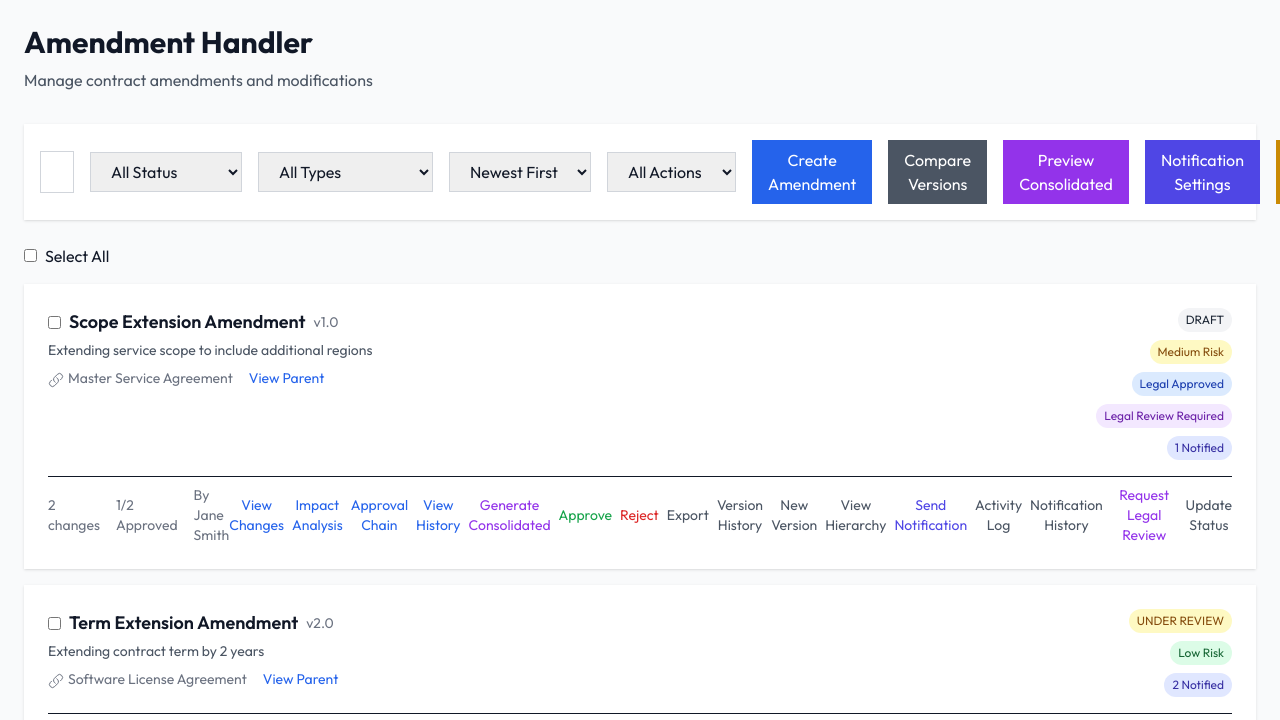
AmendmentHandler › Parent Contract Linking › should inherit parent contract metadata
Click the button "Create Amendment".
click(812, 172)  # box [752,140,872,204]
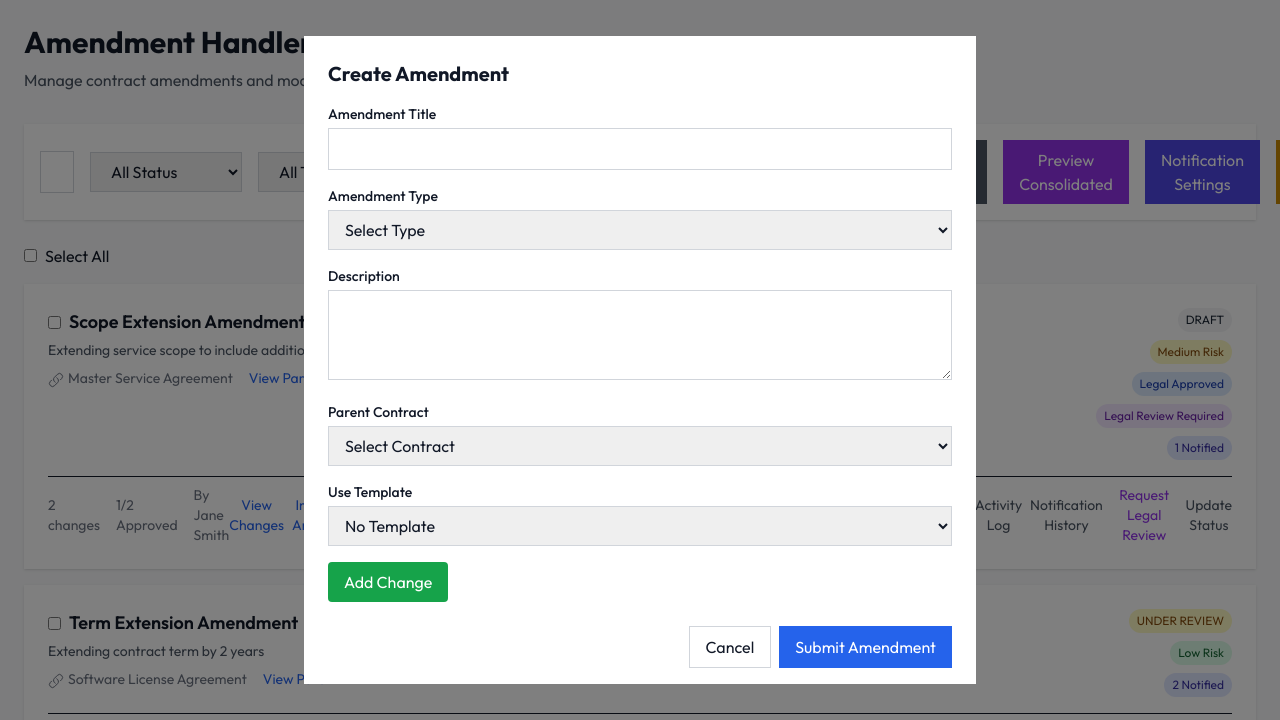
Select "Master Service Agreement" in the dropdown labelled "Parent Contract" at (640, 446), box [328,426,952,466]
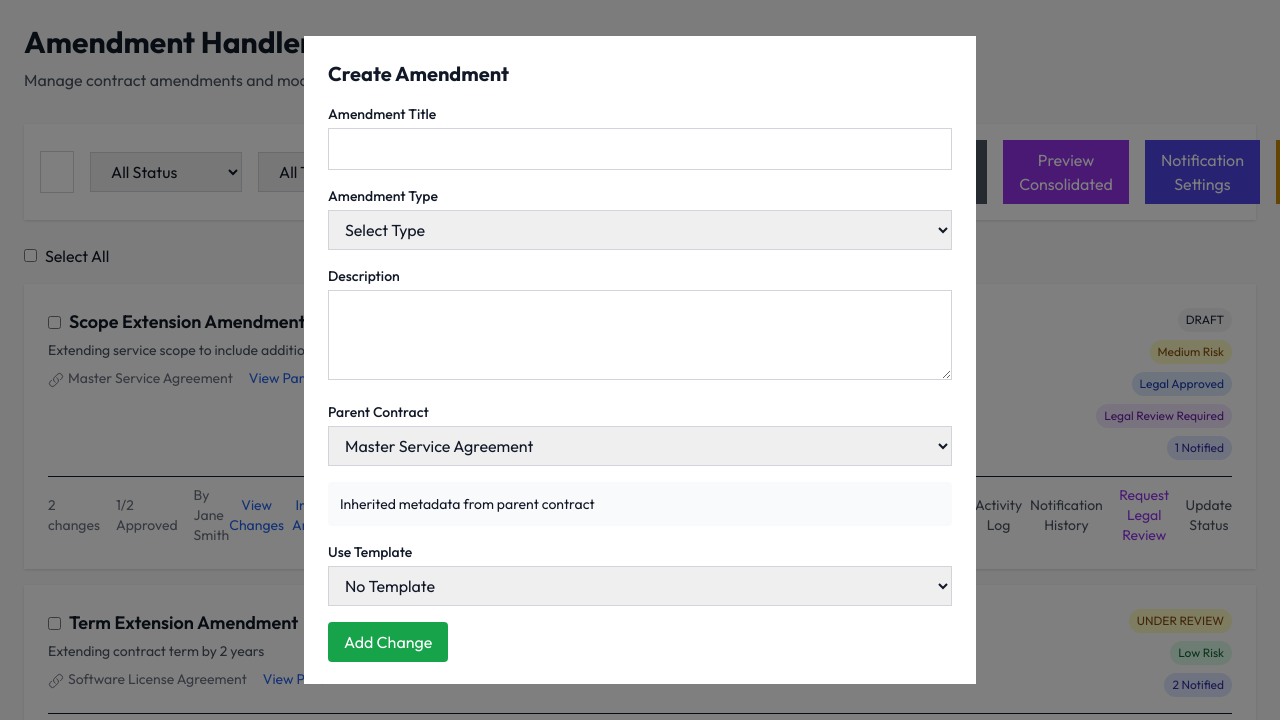
Check: the element with test id "inherited-metadata" is shown, box [328,482,952,526]
